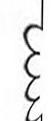inductor: (11, 16, 43, 119)
